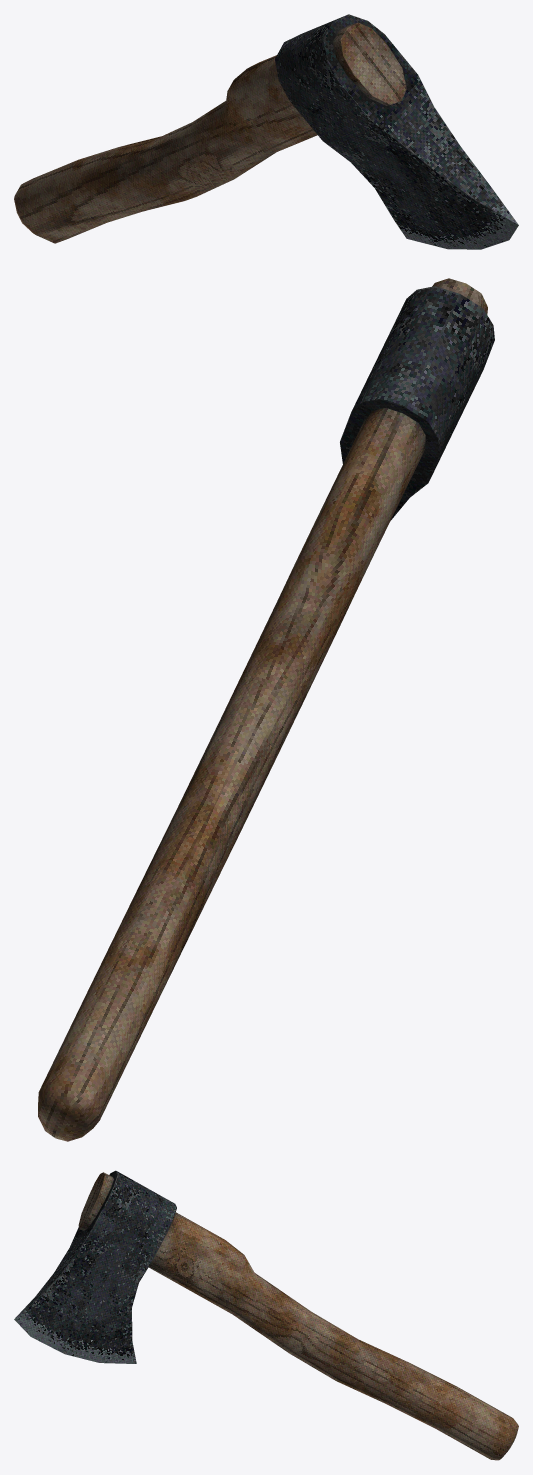
Rendered from 1794339881169_axe_stylized_psxps1.glb.
3 views of the same model, one above another, from view 1: azimuth 30°, elevation 25°; view 2: azimuth 150°, elevation 25°; view 3: azimuth 270°, elevation 25° (orthographic). The views are drawn at different scales.
Parts seen in each view (by area): view 1: Axe; view 2: Axe; view 3: Axe.
Part boxes in pixels (x1=…): Axe: x1=14, y1=14, x2=518, y2=249; Axe: x1=38, y1=278, x2=494, y2=1141; Axe: x1=14, y1=1170, x2=518, y2=1460.
Bounding box in the file's own units: 0.0995 × 0.3138 × 0.5007.
1 material, 1 textured.
